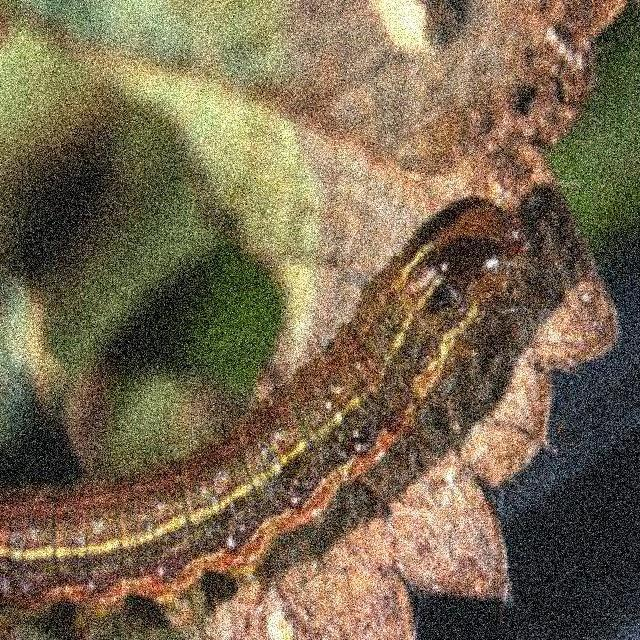gusano_cogollero: (0, 194, 535, 622)
